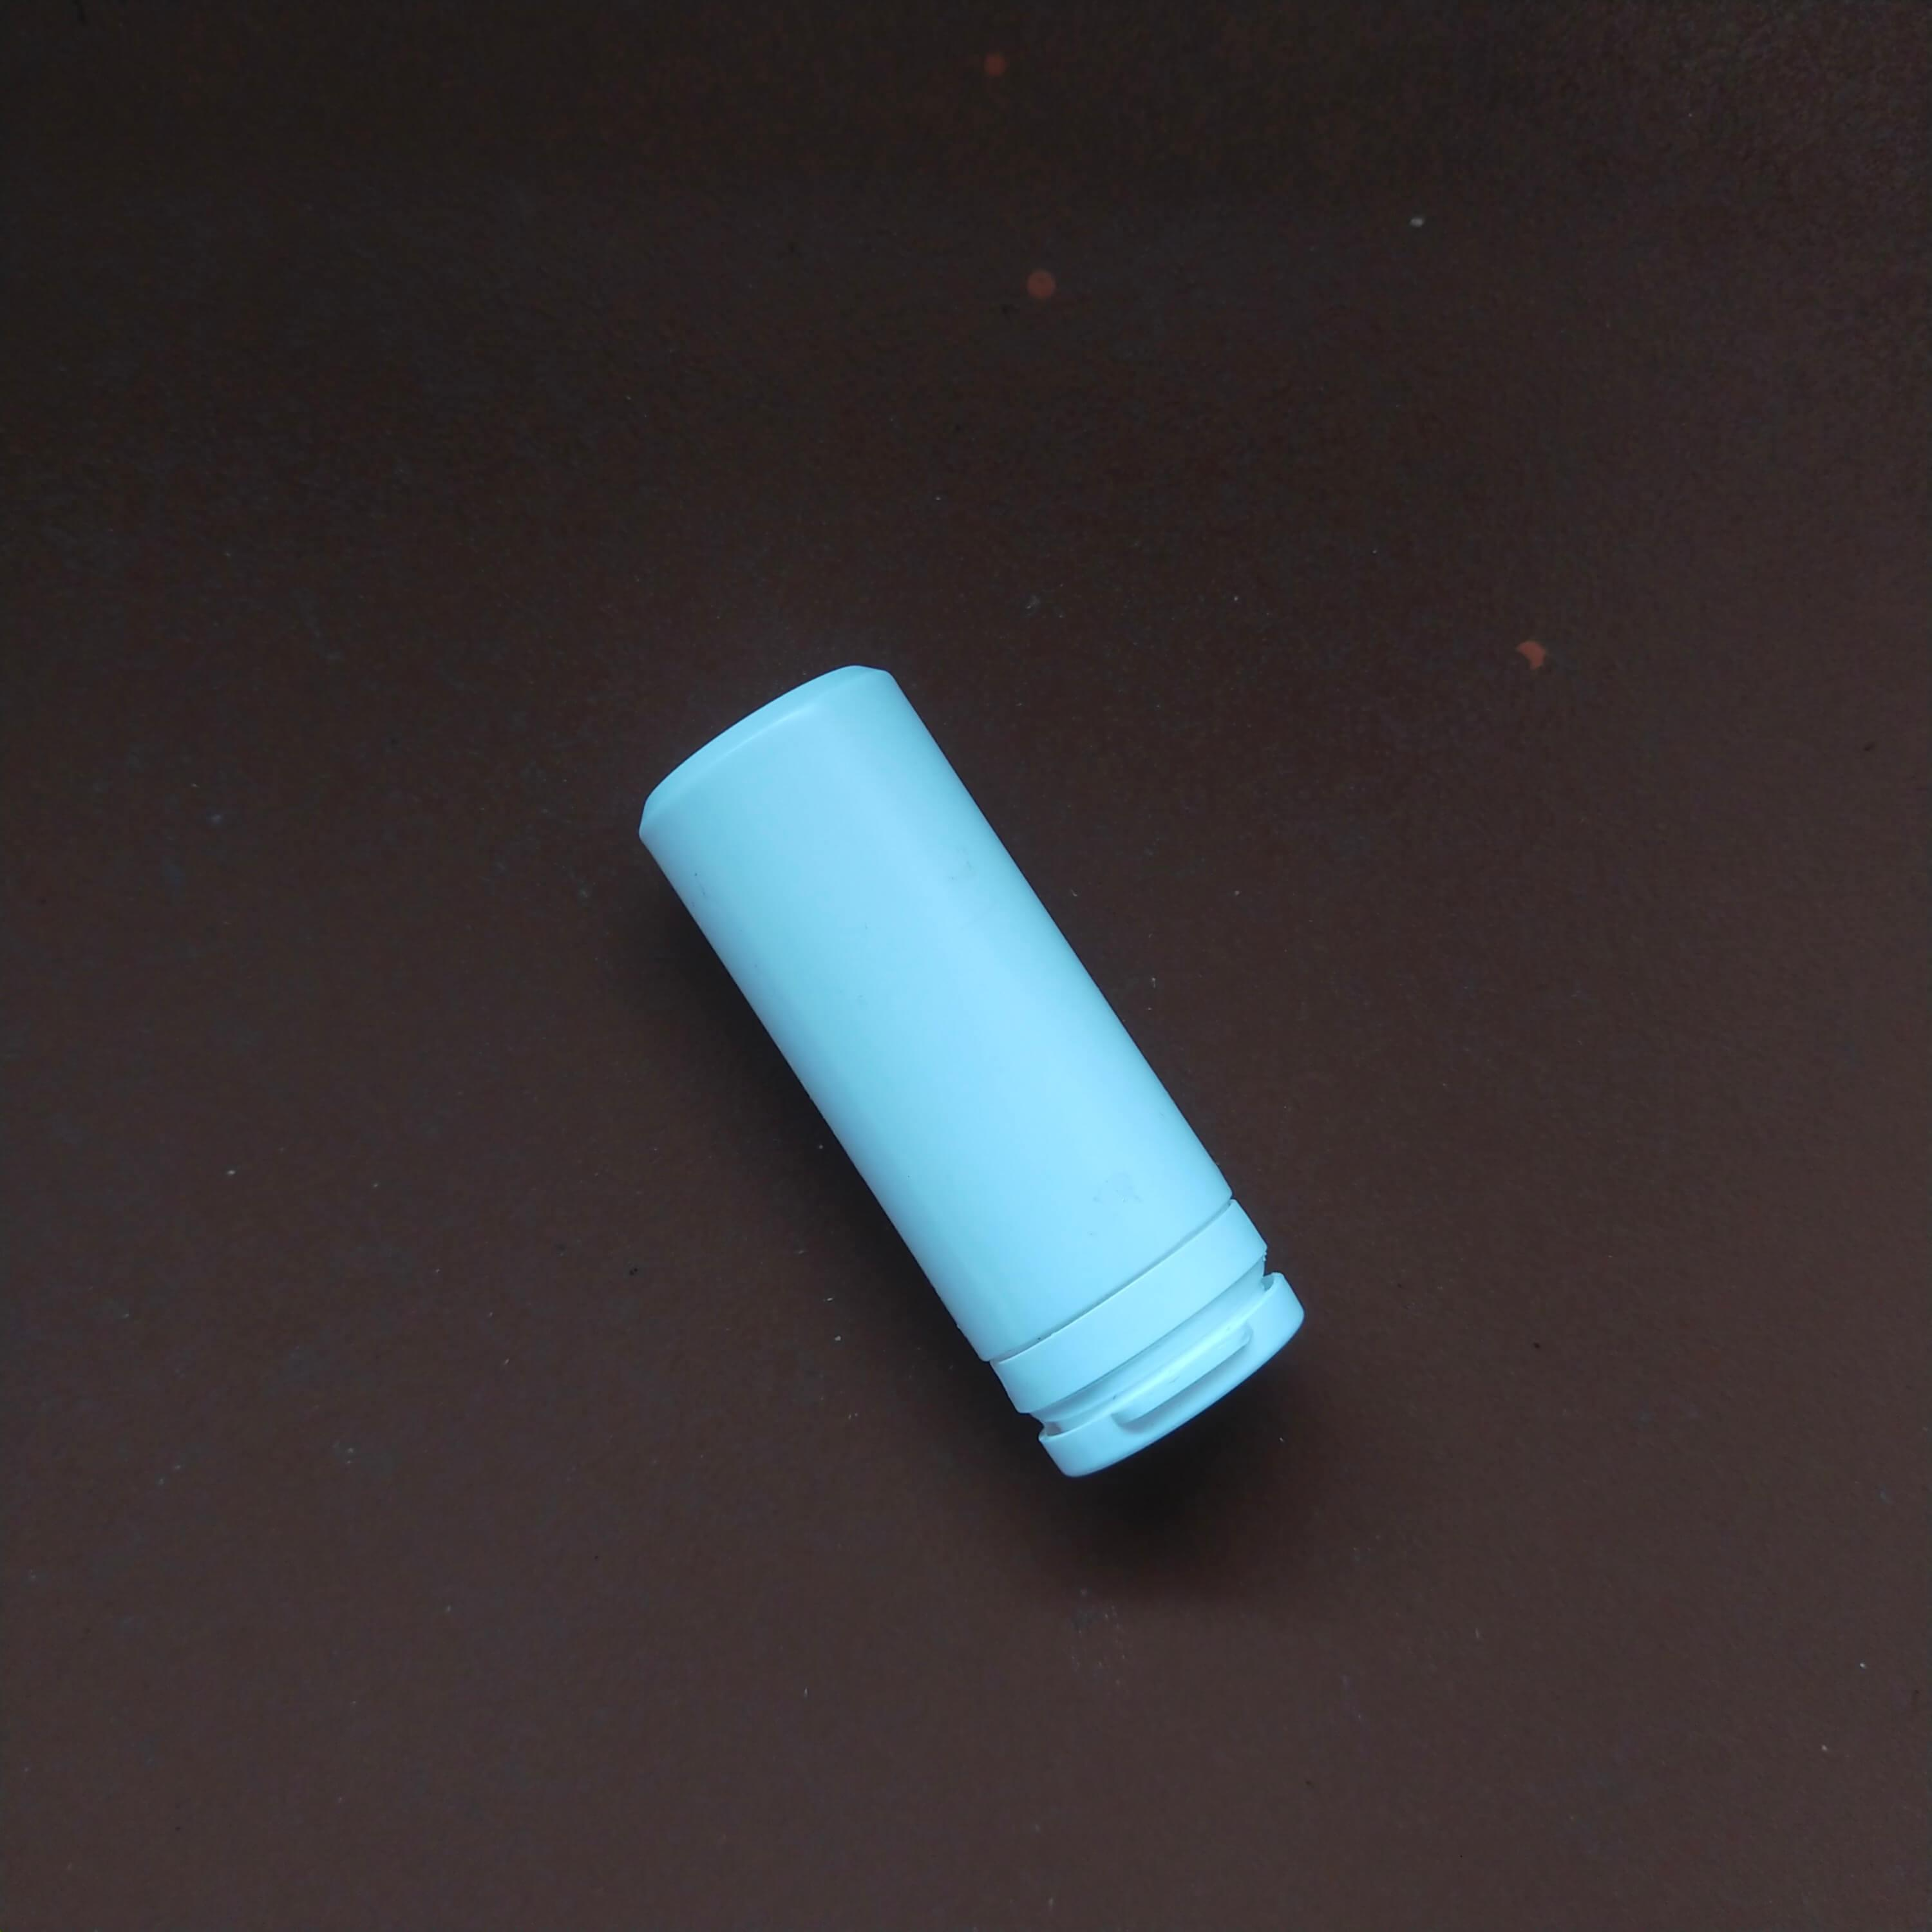plastic box: (612, 639, 1357, 1527)
